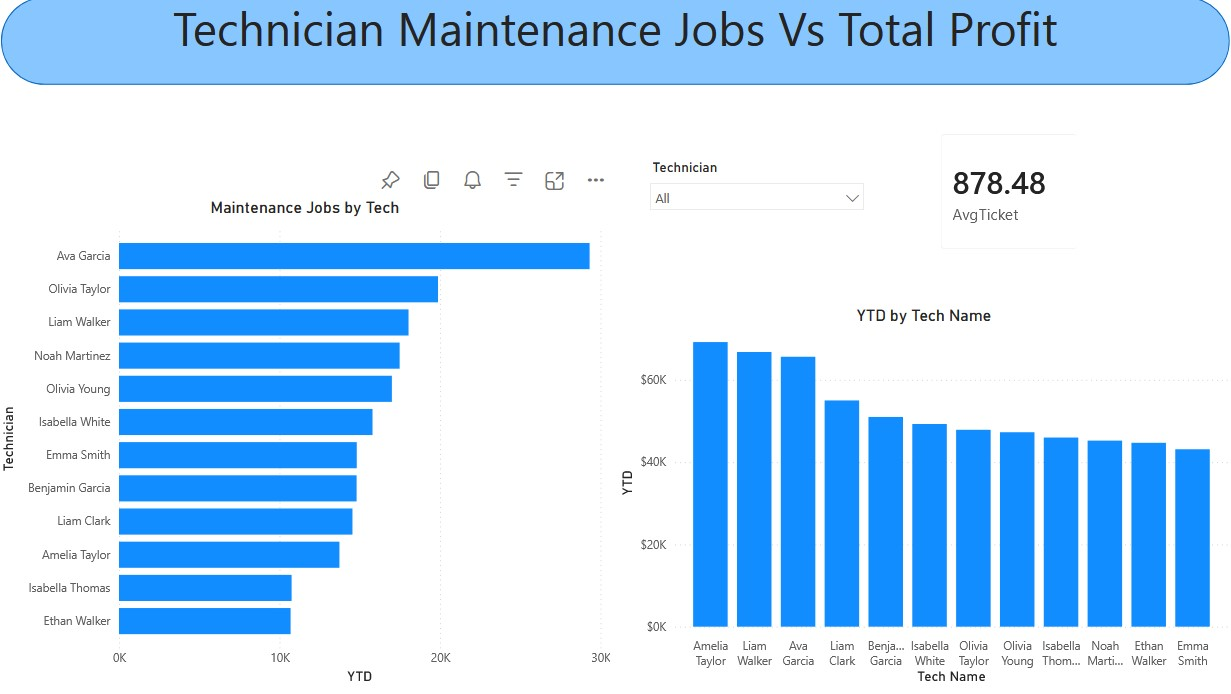

Layout of this report page (visuals, bound fields, positions):
{"tool":"powerbi","page":{"name":"Tech Breakdown","canvas":[1280,720],"ordinal":3},"visuals":[{"type":"barChart","title":"Easy Jobs(Sauce) by Tech","fields":{"Y":["Sauce Vs Diag Tech.YTD"],"Category":["Employees.employee_name"]},"box":[0,213.5,640.6,506.5],"z":0},{"type":"shape","box":[5.7,5.7,1269.9,90.7],"z":1},{"type":"columnChart","fields":{"Category":["Employees.employee_name"],"Y":["Tech YTD Labor.YTD"]},"box":[640.6,325,638.7,395],"z":2},{"type":"cardVisual","fields":{"Data":["Avg ticket/month.AvgTicket"]},"box":[960,130.4,175.7,153.1],"z":6},{"type":"slicer","fields":{"Values":["Employees.employee_name"]},"box":[667.1,168.2,241.9,115.3],"z":7},{"type":"textbox","box":[5.7,0,1269.9,107.7],"z":8}]}

Visuals, with their boxes on the page's 1280x720 design canvas (x1, y1, x2, y2). These are canvas units, not pixel positions in the 1231x694 screenshot, which may show the page scaled, cropped or inside an application window:
"Easy Jobs(Sauce) by Tech" barChart: Rect(0, 214, 641, 720)
shape: Rect(6, 6, 1276, 96)
columnChart - Employees.employee_name x Tech YTD Labor.YTD: Rect(641, 325, 1279, 720)
cardVisual - Avg ticket/month.AvgTicket: Rect(960, 130, 1136, 284)
slicer - Employees.employee_name: Rect(667, 168, 909, 284)
textbox: Rect(6, 0, 1276, 108)
